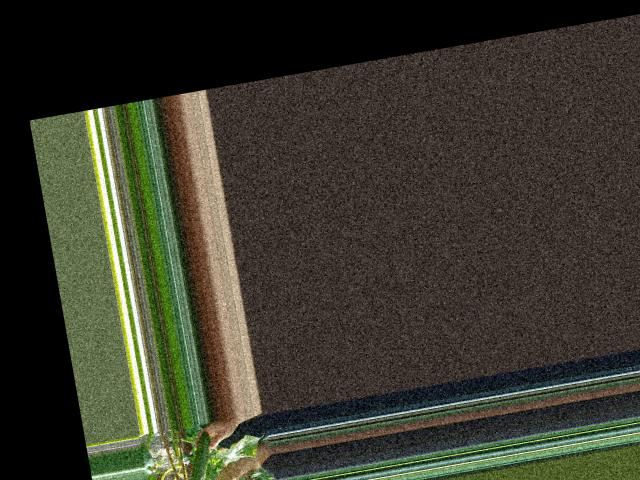cucumber: (179, 430, 222, 480)
